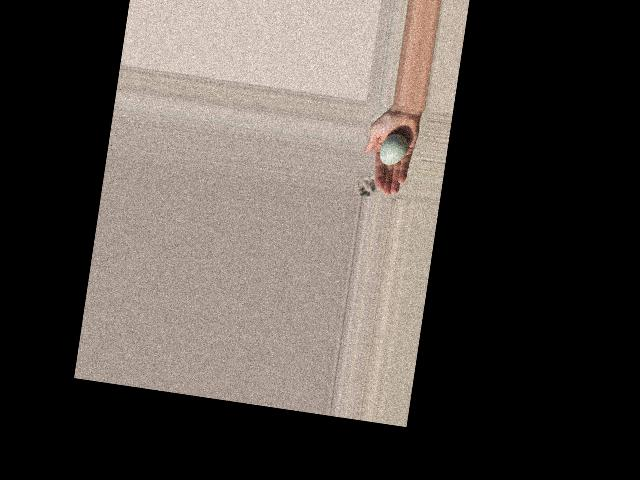egg: (378, 132, 409, 168)
